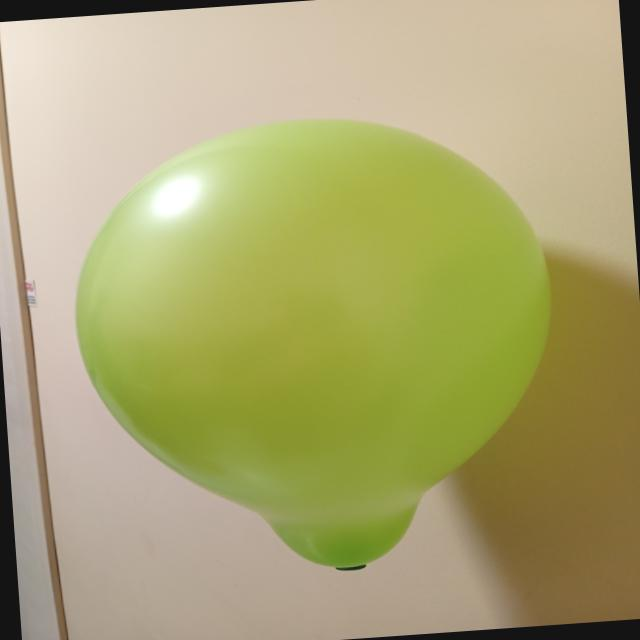balloon: (76, 119, 550, 569)
